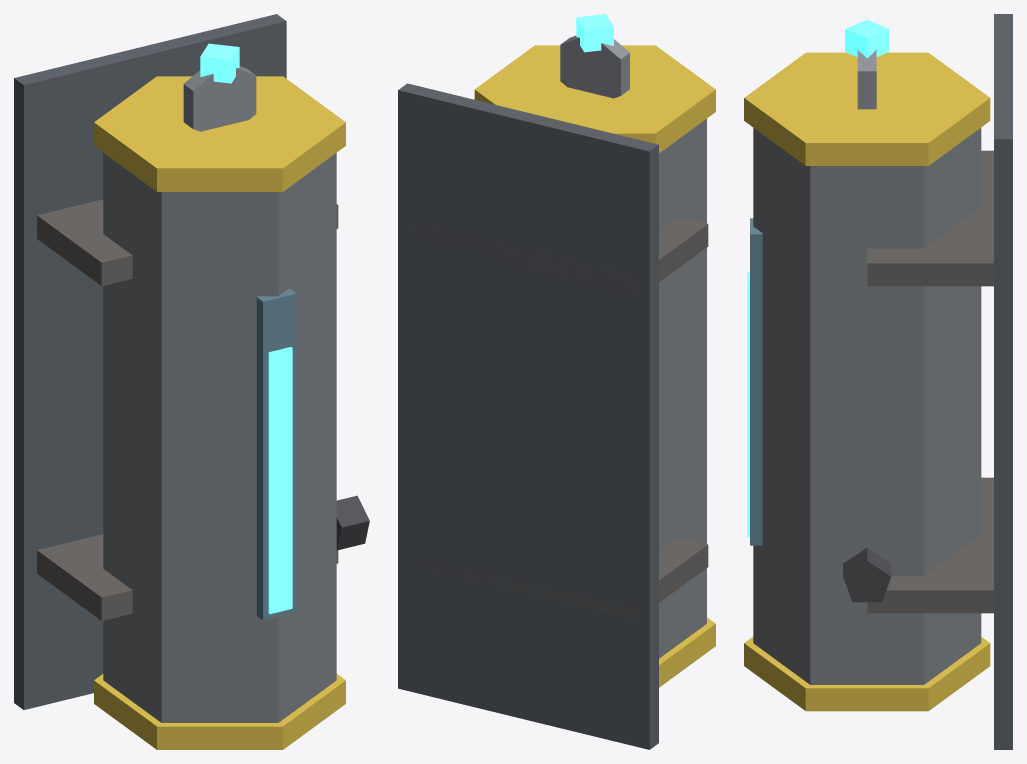
Rendered from oxypod.glb.
3 views of the same model, side by side, from view 1: azimuth 30°, elevation 25°; view 2: azimuth 150°, elevation 25°; view 3: azimuth 270°, elevation 25° (orthographic). The views are drawn at different scales.
Visible parts, largest first — view 1: oxypod_station; view 2: oxypod_station; view 3: oxypod_station.
Part boxes in pixels (x1,y1,x2,y2): oxypod_station: (14,14,369,749); oxypod_station: (398,14,715,749); oxypod_station: (744,14,1012,749).
Size of the model in its own units: 0.479 by 1.15 by 0.4244.
